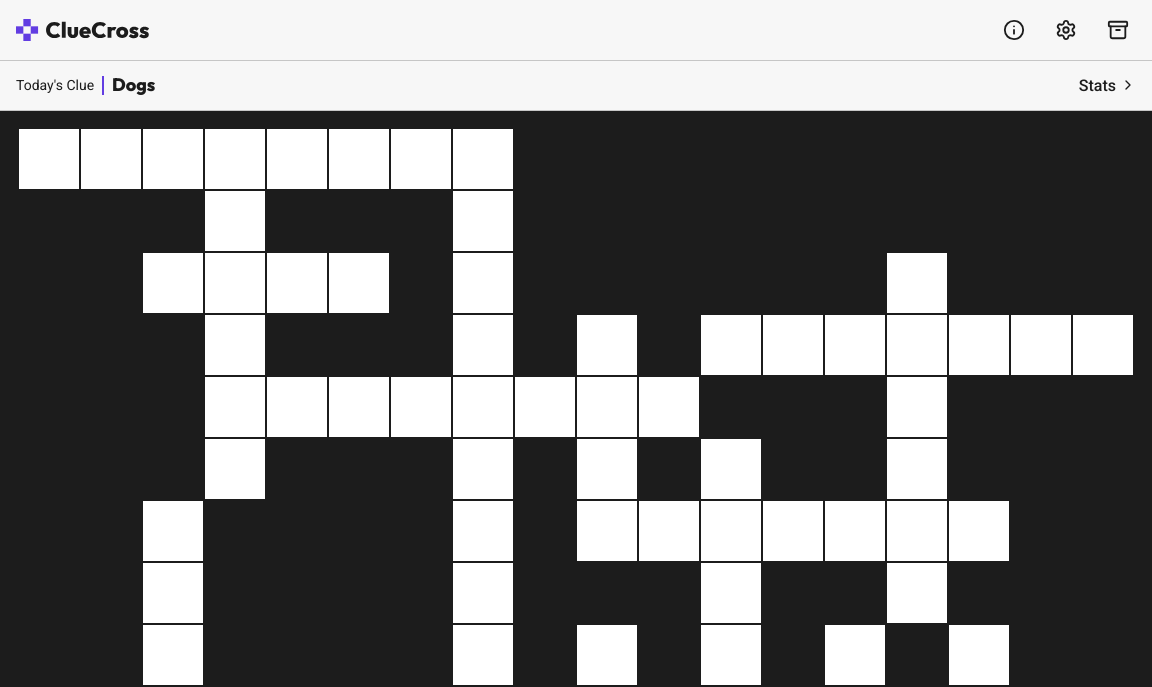
Test: Mobile layout › opens How to Play via the Info icon and returns via Back to Puzzle
Click the button named "how to play" at (1014, 30), box [996,12,1032,48]
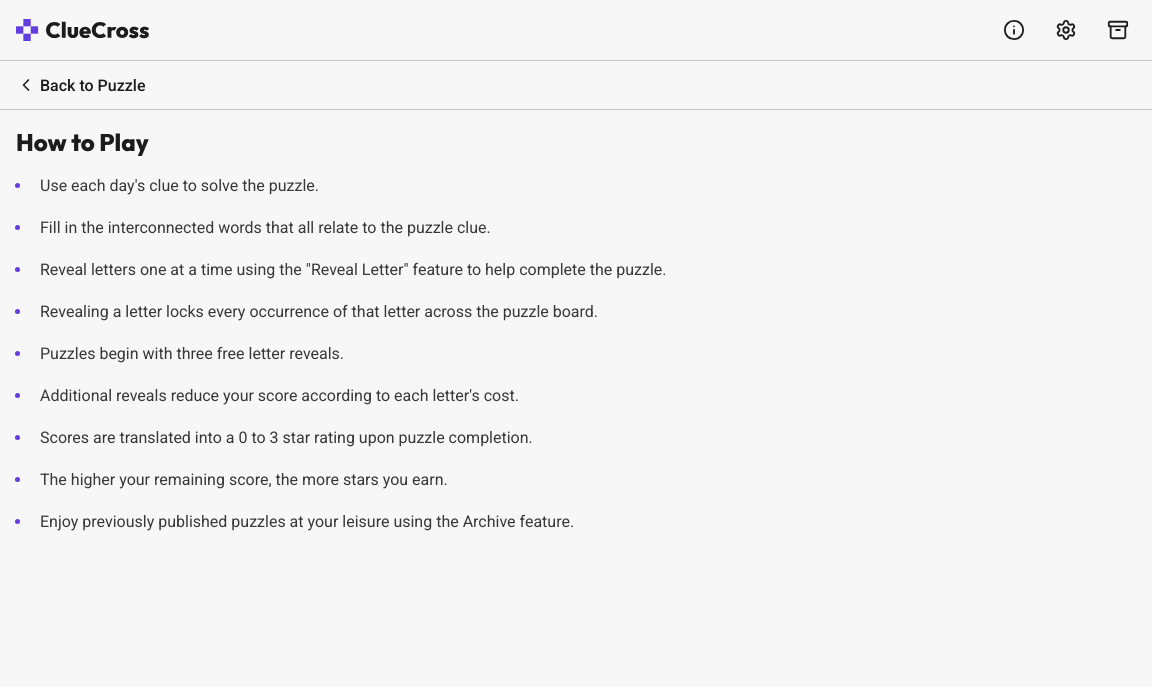
Result: the heading "How to Play" is shown at [16,127,149,157]
Result: the list item "Puzzles begin with three free letter reveals." is shown at [40,344,344,363]
Click the button "Back to Puzzle" at (81, 85), box [16,75,146,95]
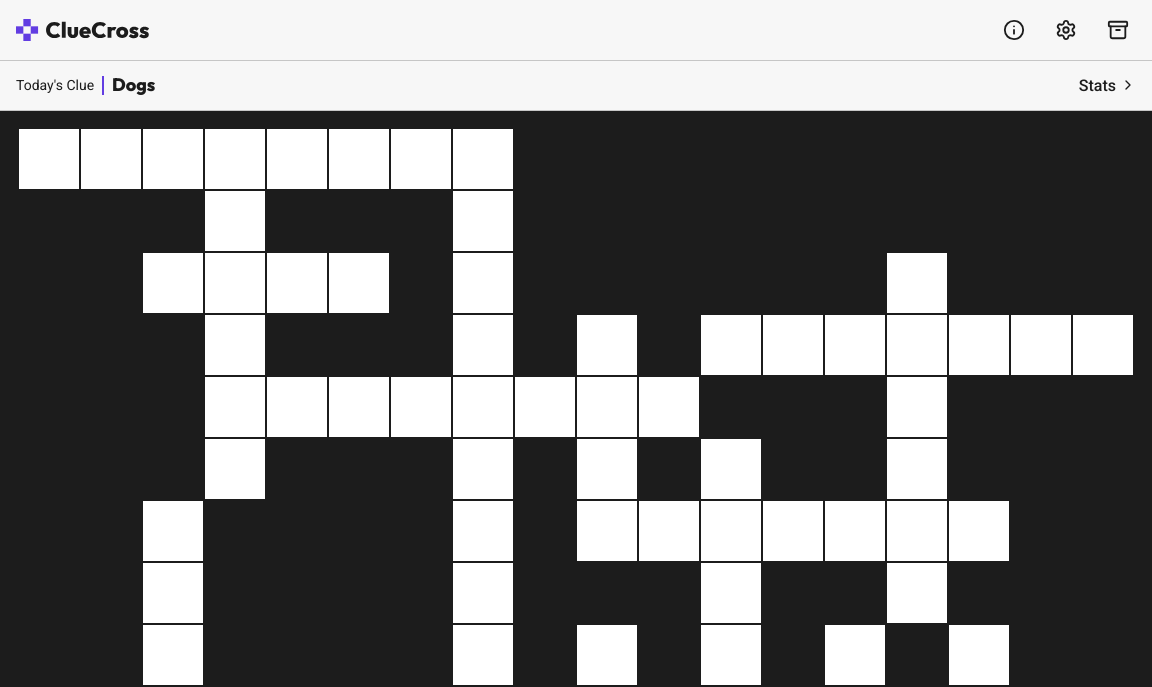
Result: the field with test id "^cell-" is shown at [19,129,79,189]
